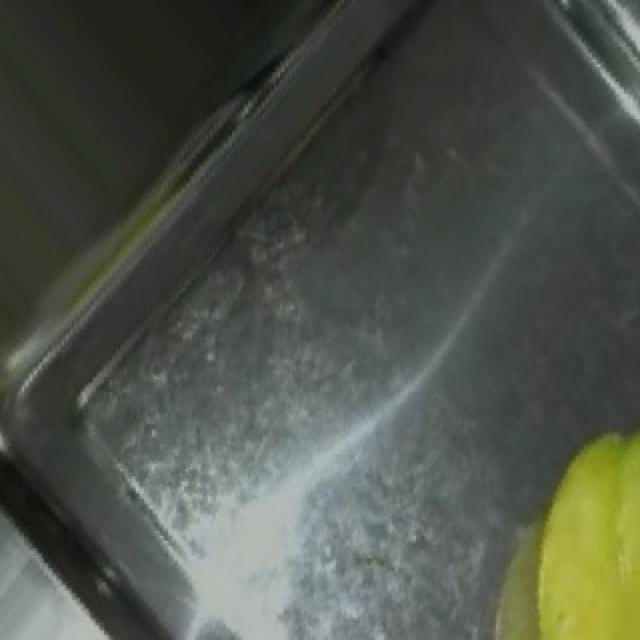fruit: (474, 389, 640, 640)
